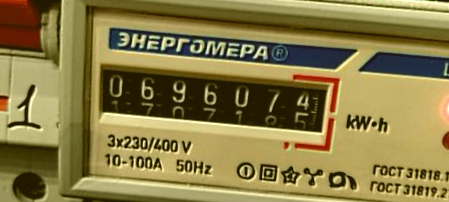0: (105, 72, 127, 99), (232, 82, 252, 109)
4: (294, 87, 312, 111)
5: (292, 110, 310, 131)
6: (200, 78, 221, 107), (137, 74, 158, 101)
7: (264, 86, 282, 113)
9: (169, 76, 188, 104)
screen: (84, 50, 344, 155)
